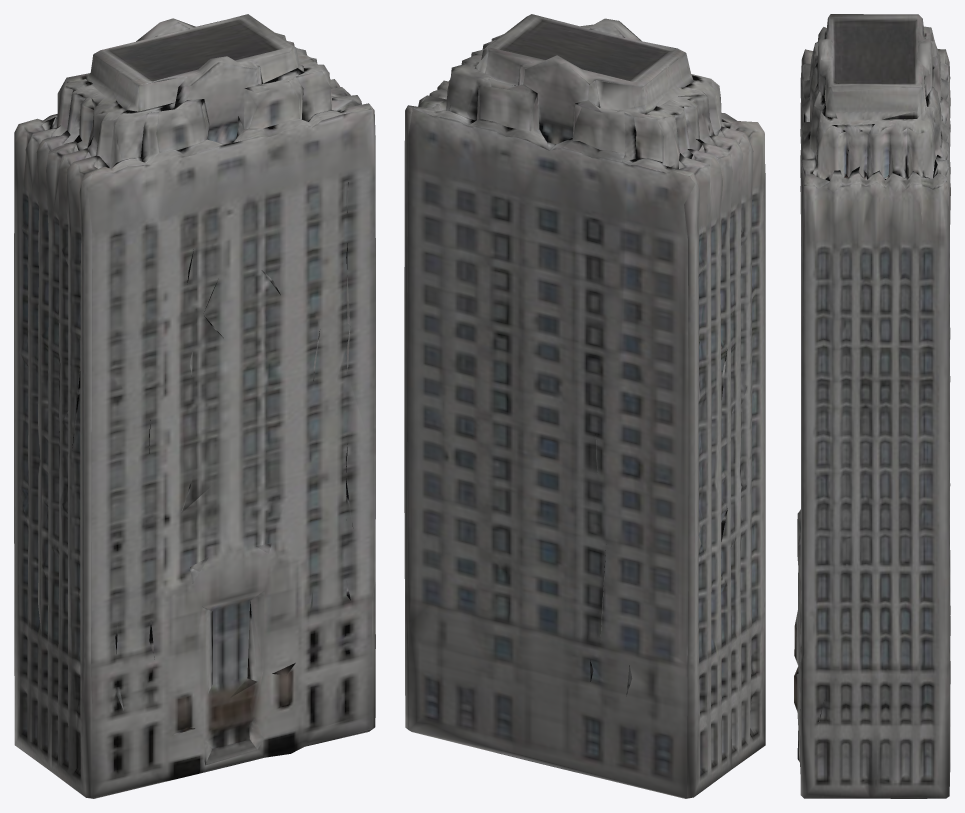
The model's file is chicago_motor_club.glb.
3 views of the same model, side by side, from view 1: azimuth 30°, elevation 25°; view 2: azimuth 150°, elevation 25°; view 3: azimuth 270°, elevation 25° (orthographic).
Parts seen in each view (by area): view 1: chicago_motor_club; view 2: chicago_motor_club; view 3: chicago_motor_club.
Part boxes in pixels (box(x1,y1,x2,y2)): chicago_motor_club: box(14, 14, 375, 798); chicago_motor_club: box(404, 14, 765, 798); chicago_motor_club: box(794, 14, 950, 798).
Bounding box in the file's own units: 30 × 68 × 14.
Materials: 1 (1 with a texture image).
